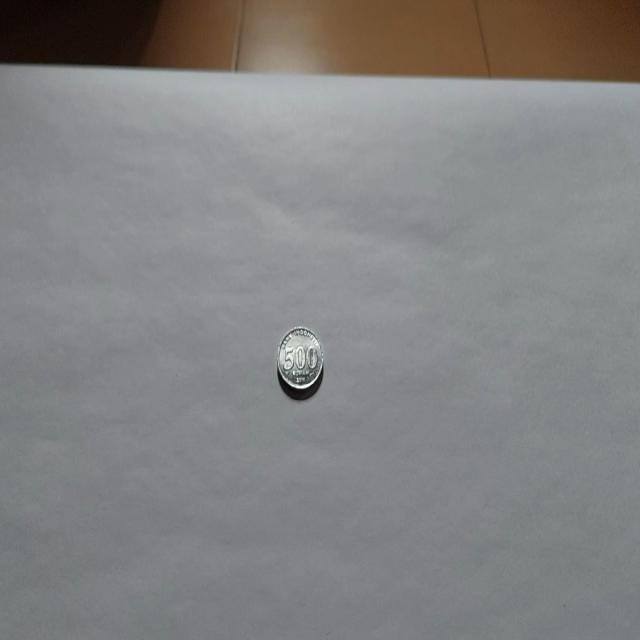lima ratus rupiah: (276, 324, 324, 400)
